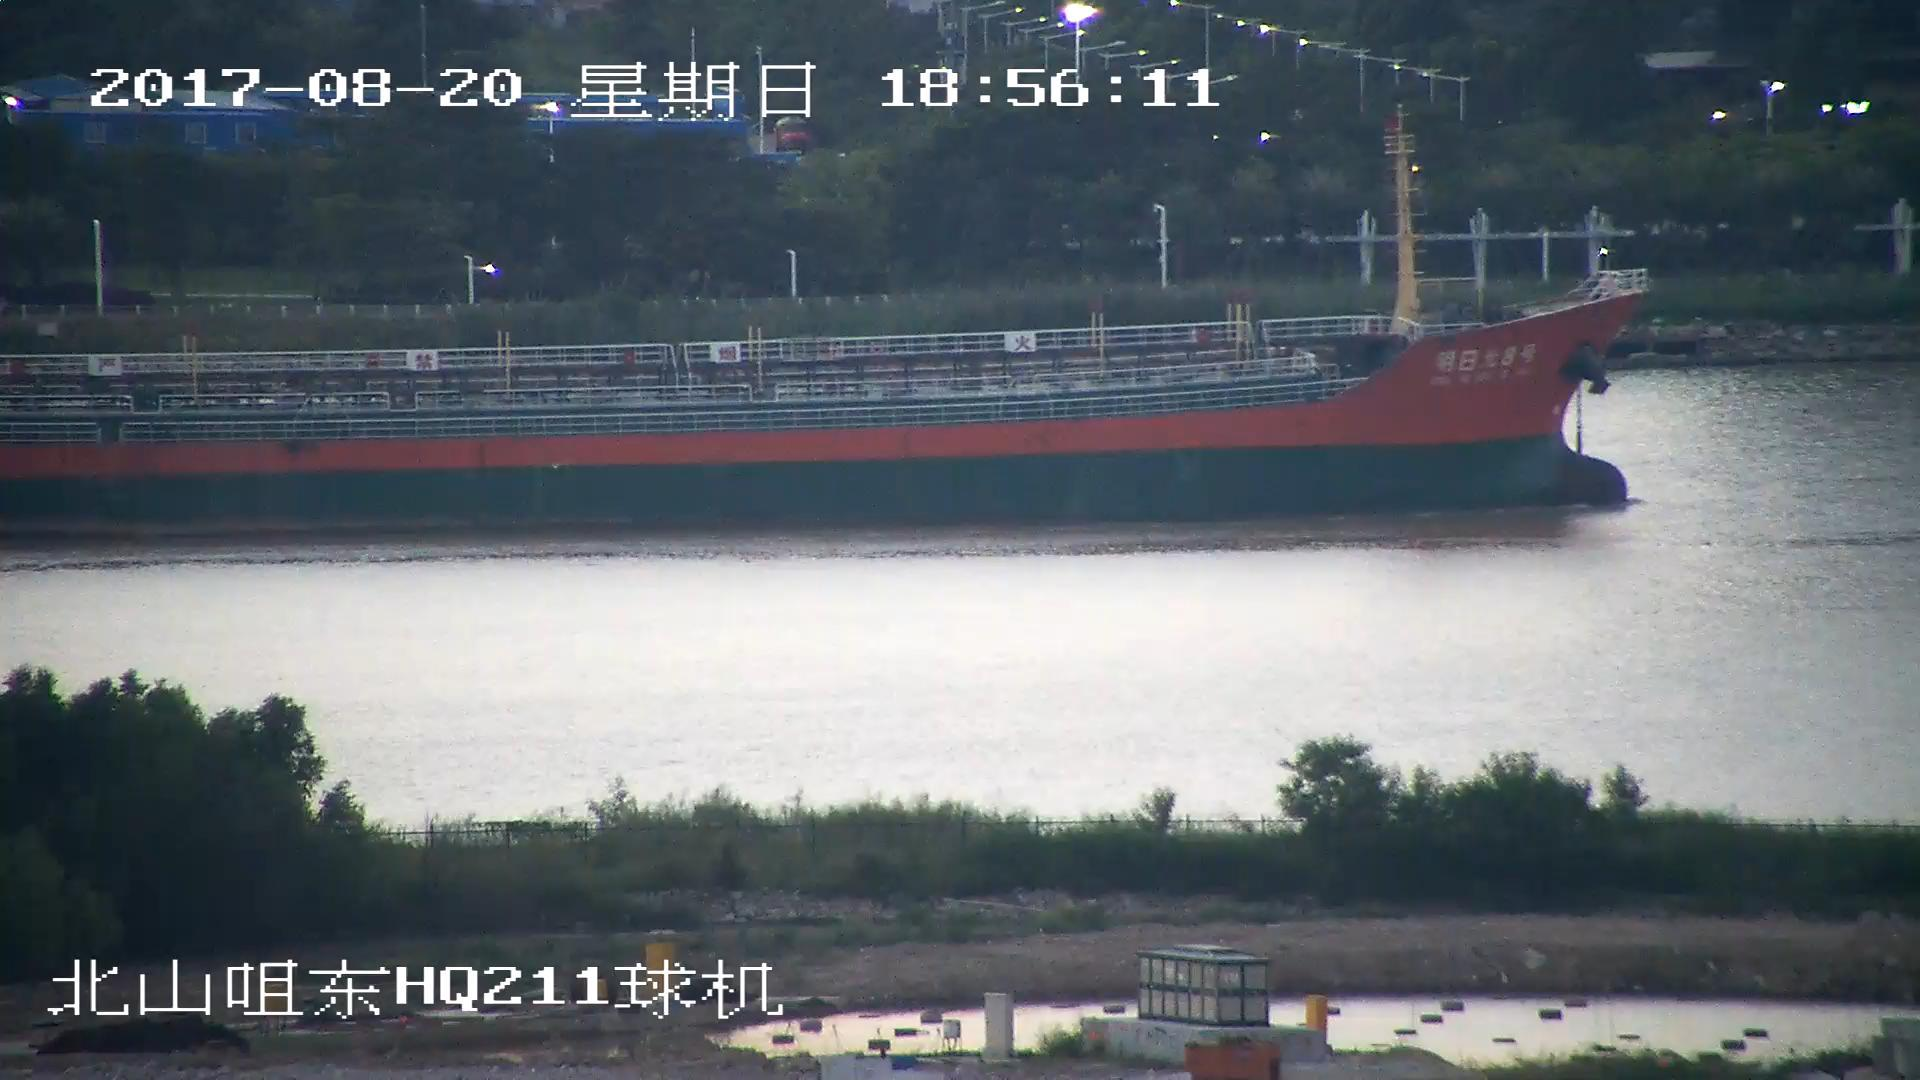Ship: (3, 129, 1658, 521)
